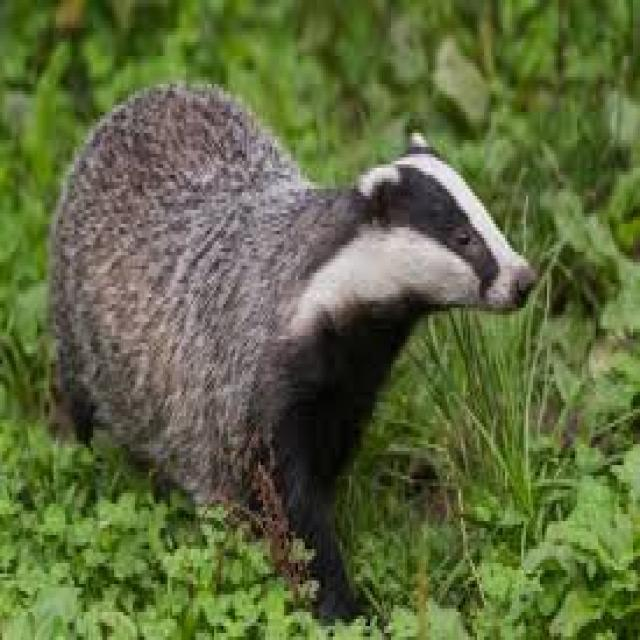Badger: (51, 74, 540, 538)
